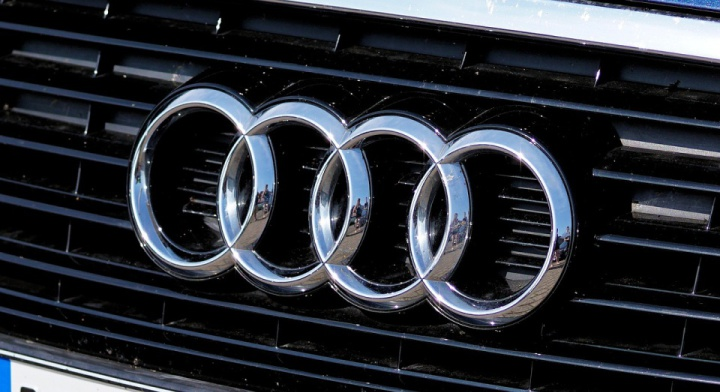audi: (114, 54, 596, 345)
